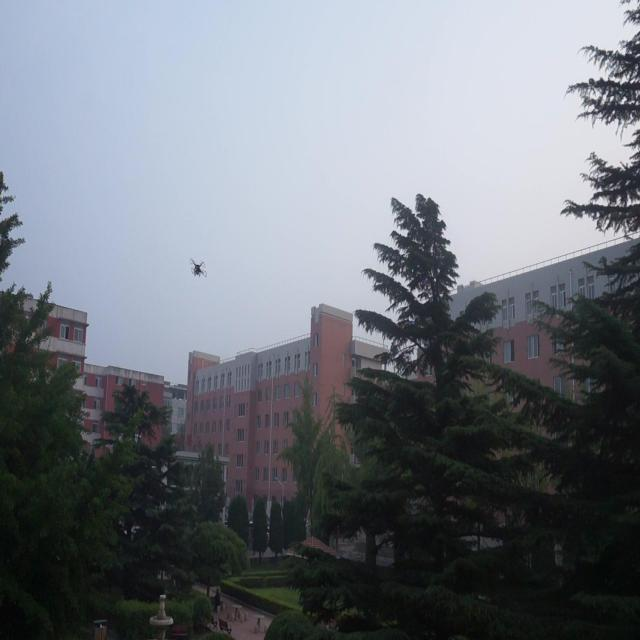drone: (188, 254, 208, 280)
